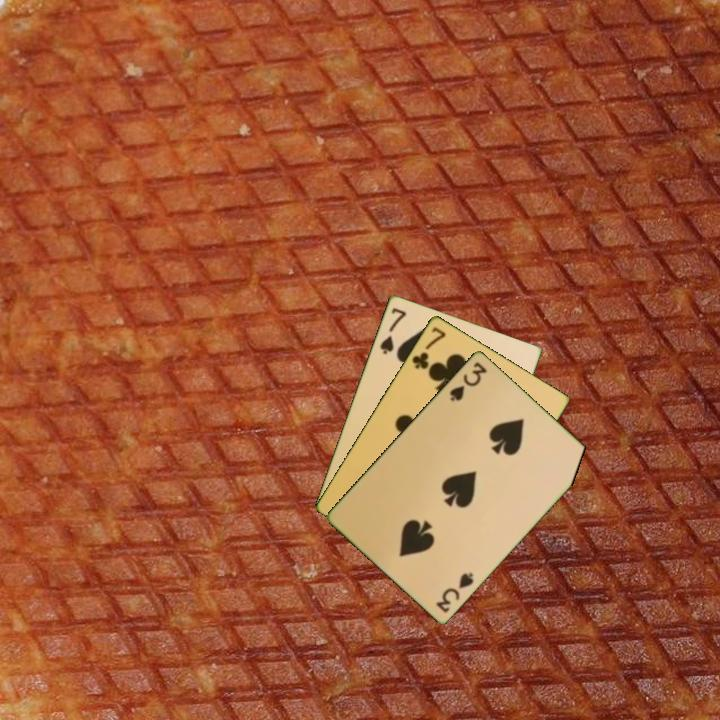3s: (432, 568, 476, 615), (446, 358, 490, 404)
7c: (408, 323, 449, 372)
7s: (376, 304, 409, 357)
